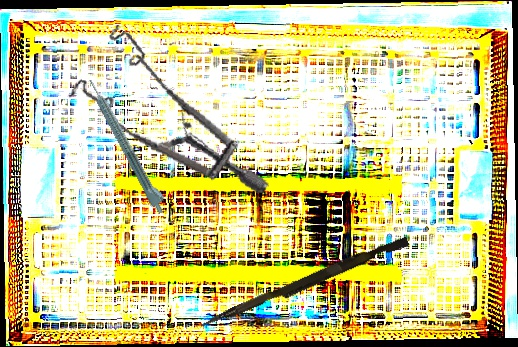Handpiece: (85, 74, 172, 216)
Pusher: (199, 231, 410, 336)
Speculum: (57, 18, 292, 195)
